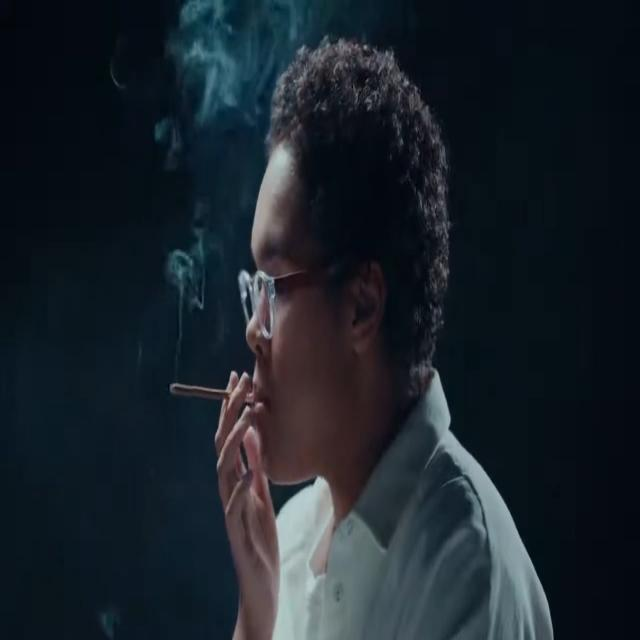Курение: (167, 374, 258, 420)
